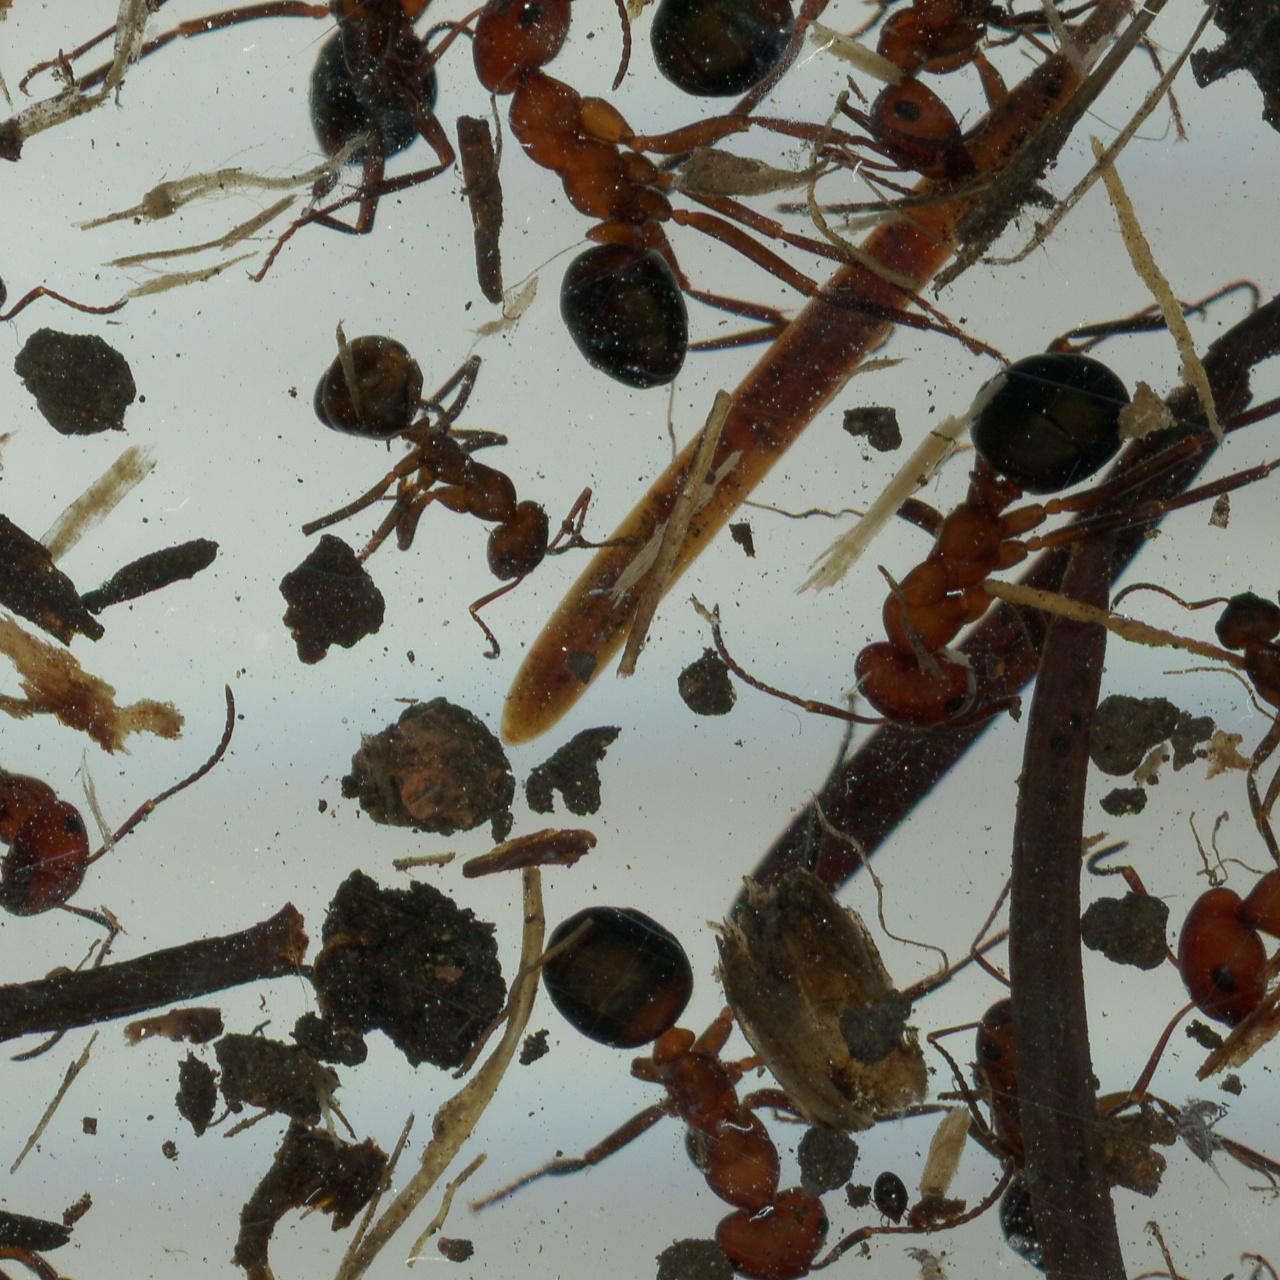arthropod: (358, 792, 993, 1280), (784, 226, 1280, 770), (223, 278, 647, 700), (0, 371, 243, 1071), (428, 0, 784, 395), (851, 941, 1216, 1280), (537, 0, 1068, 196), (128, 0, 509, 251), (0, 0, 174, 520), (1103, 820, 1280, 1226), (1184, 266, 1280, 859), (1109, 551, 1280, 845), (0, 1000, 150, 1280), (790, 0, 1009, 183), (1234, 0, 1280, 351), (1172, 1093, 1236, 1201), (865, 1169, 917, 1236), (900, 1244, 964, 1280), (0, 408, 26, 477)
